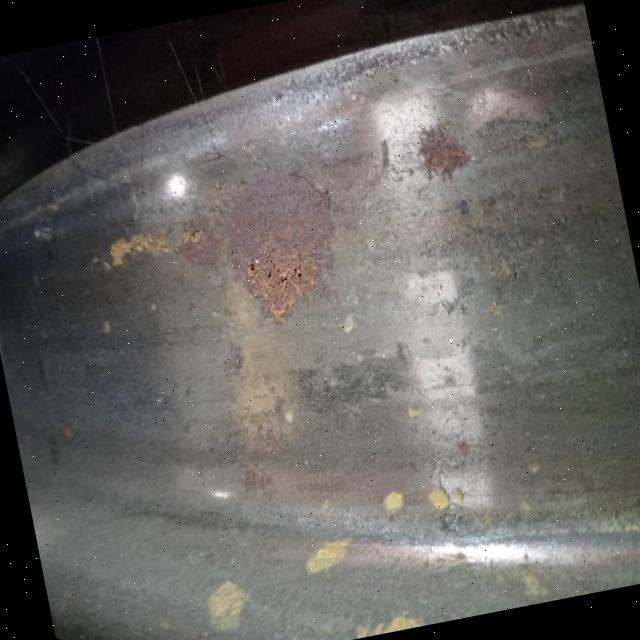Out_Of_Roundness: (218, 263, 520, 546)
